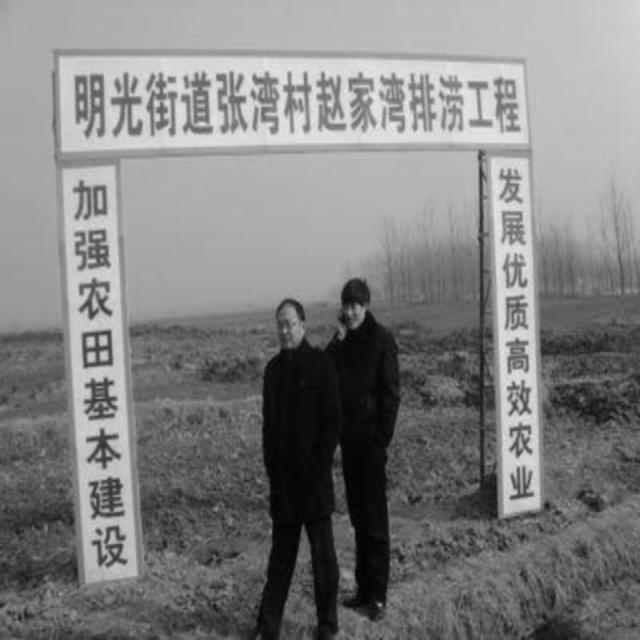head: (270, 292, 312, 354), (336, 275, 373, 335)
